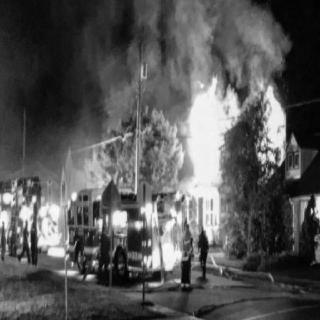Fire: (258, 75, 286, 177)
other: (95, 206, 129, 232)
